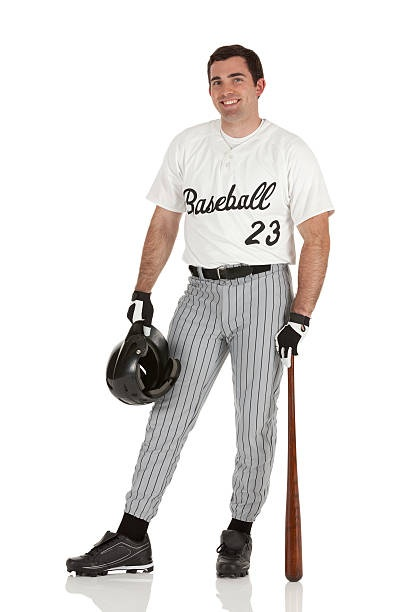bita: (274, 337, 315, 584)
